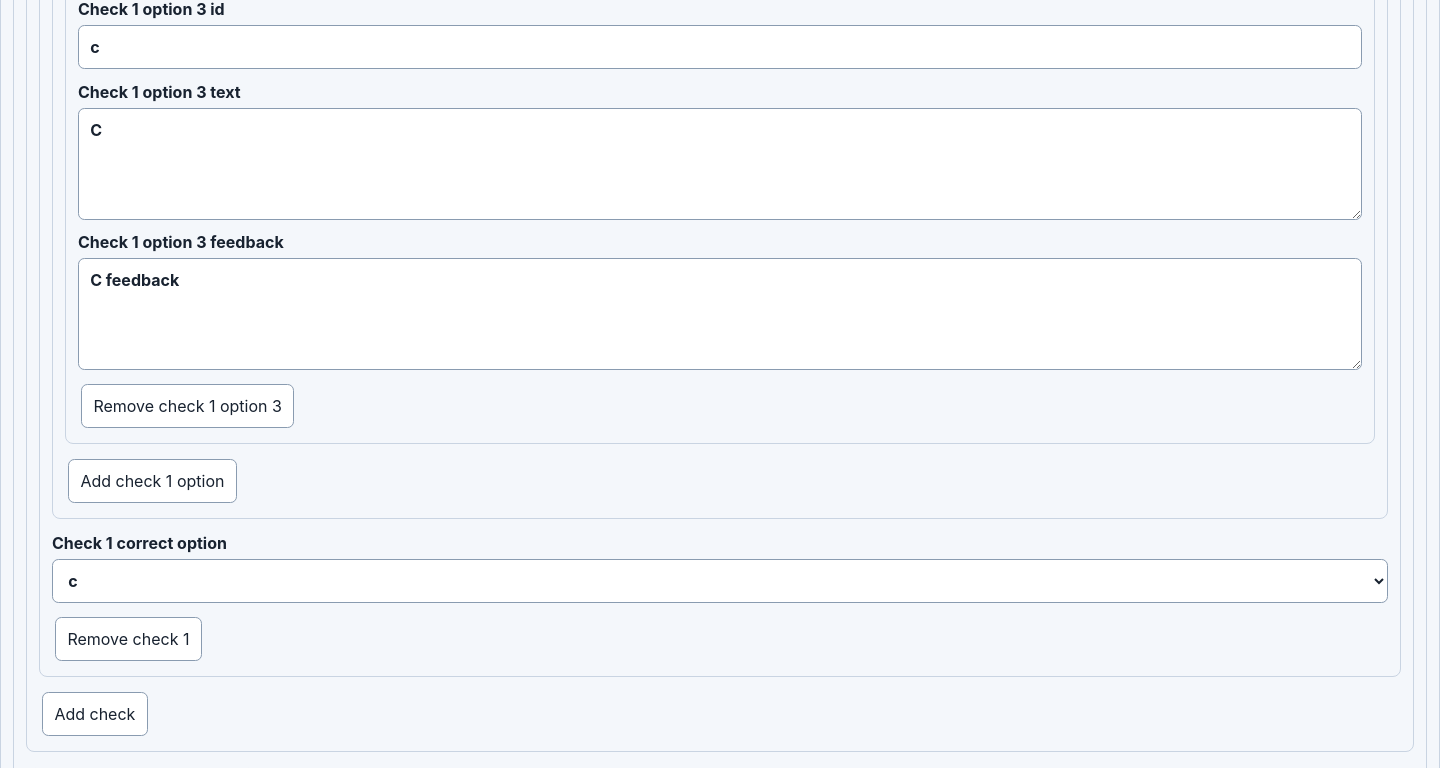
Test: requires the author to choose the correct answer after deleting it instead of silently awarding another option
(page scrolled)
Click the button "Remove check 1 option 3". click: x=188, y=406
box: [81,384,294,428]
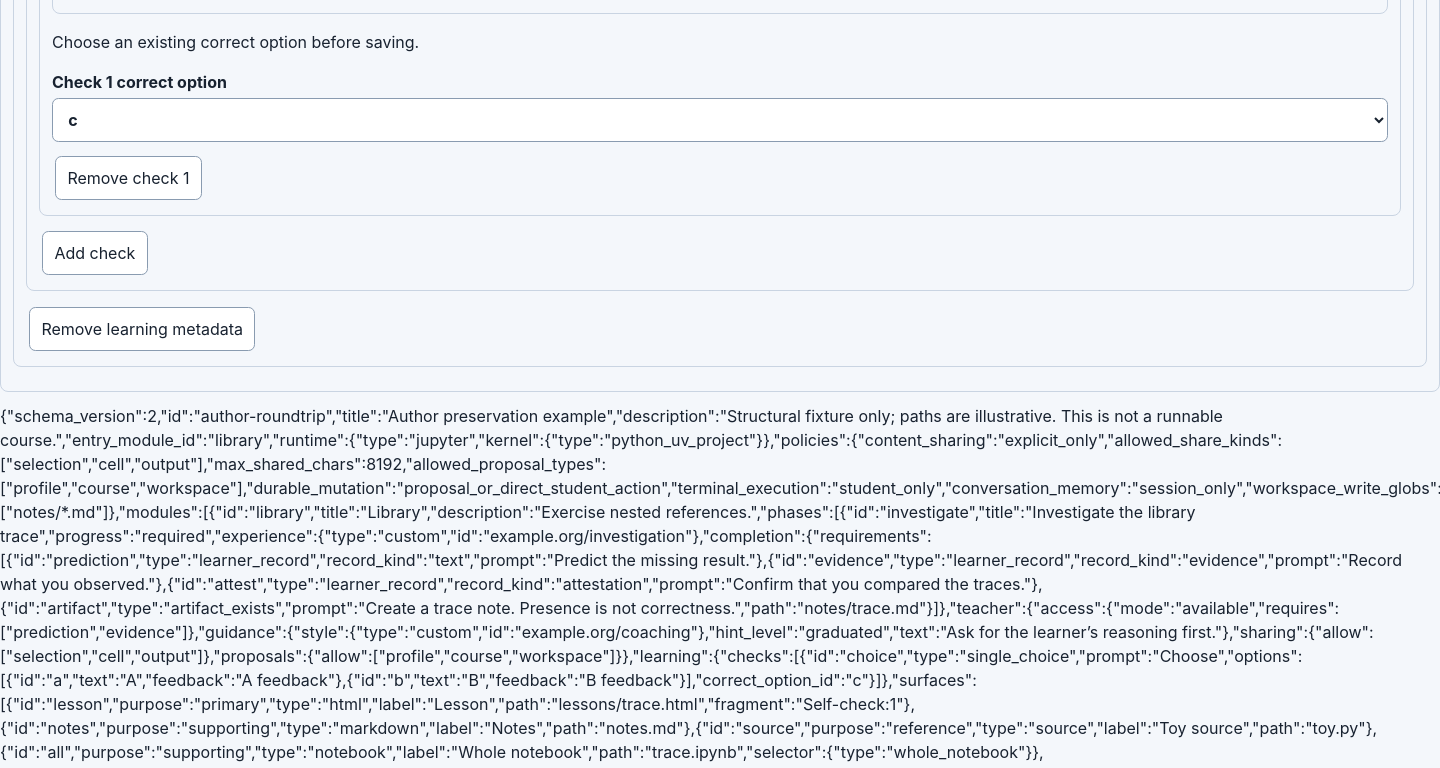
Now the text "Choose an existing correct option before saving." is shown, box [52,32,419,52]
